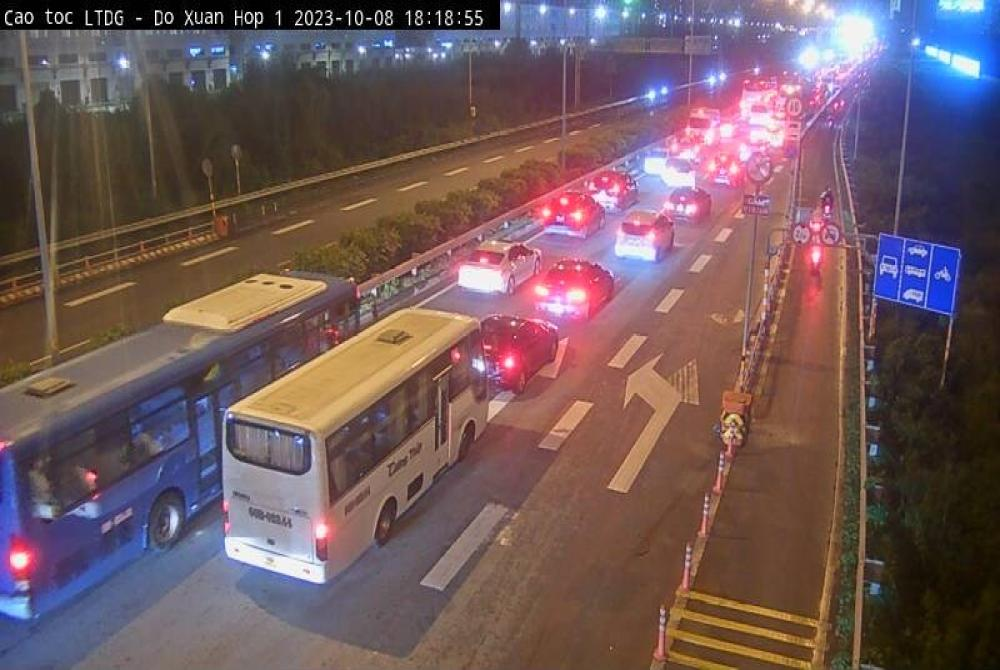bus: (0, 272, 360, 626), (222, 306, 490, 588)
